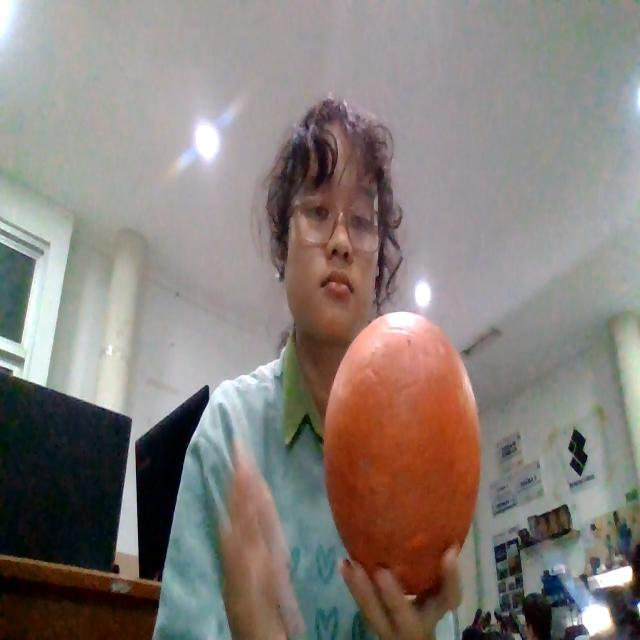ball: (322, 310, 482, 598)
